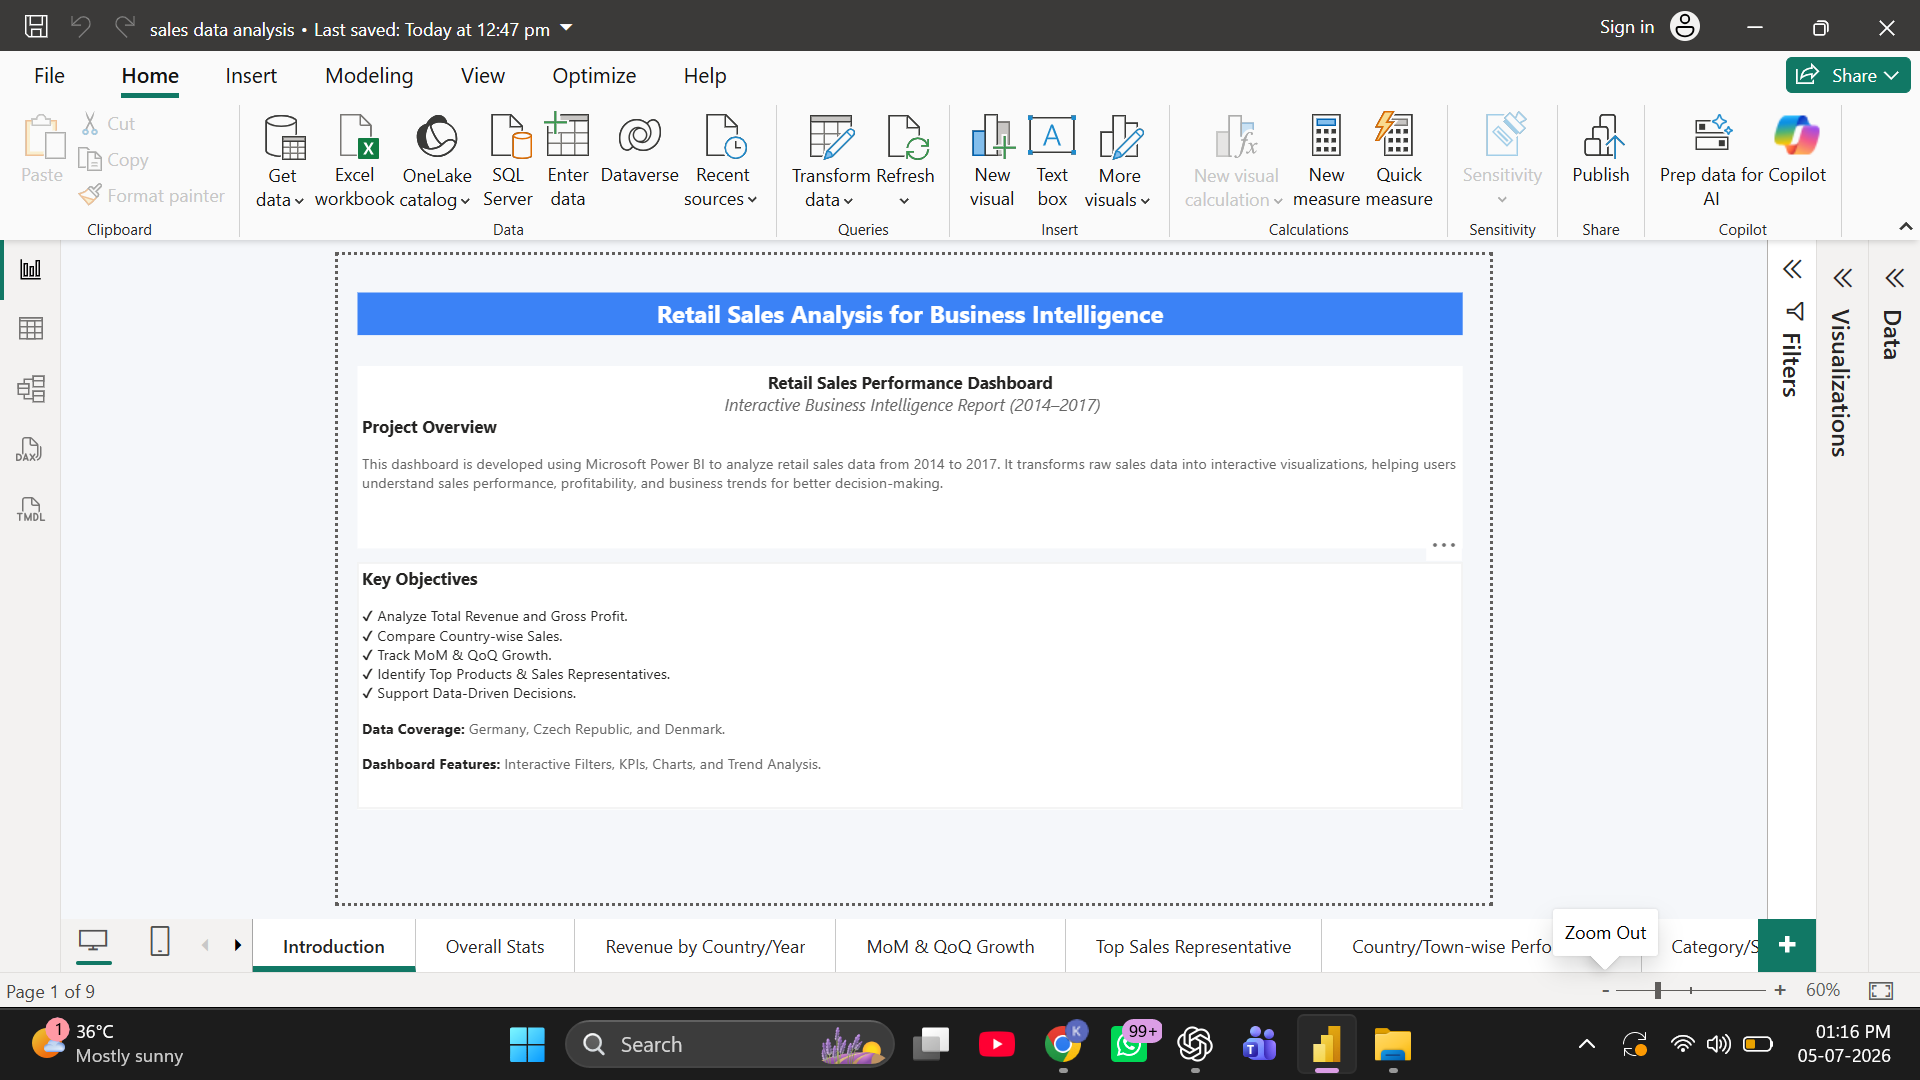

The dashboard page shown, as its layout file describes it:
{"tool":"powerbi","page":{"name":"Introduction","canvas":[1280,720],"ordinal":0},"visuals":[{"type":"textbox","box":[21.2,40.8,1228.3,47.4],"z":0},{"type":"textbox","box":[21.2,124.1,1228.3,202.5],"z":1000},{"type":"textbox","box":[21.2,341.4,1228.3,274.4],"z":2000}]}

Visuals, with their boxes on the page's 1280x720 design canvas (x1, y1, x2, y2). These are canvas units, not pixel positions in the 1920x1080 screenshot, which may show the page scaled, cropped or inside an application window:
textbox: region(21, 41, 1250, 88)
textbox: region(21, 124, 1250, 327)
textbox: region(21, 341, 1250, 616)
